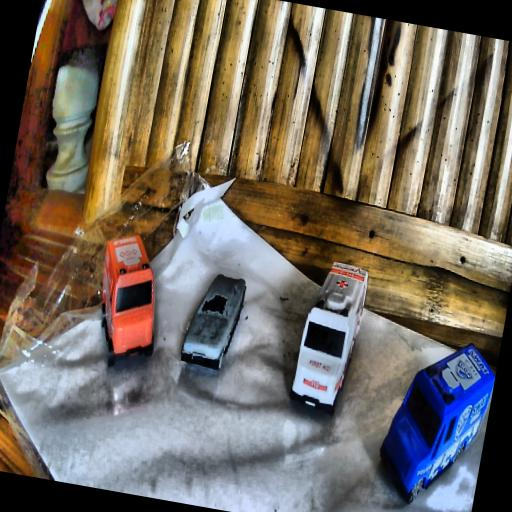ambulance: (370, 328, 500, 512), (286, 256, 371, 417), (86, 232, 172, 374)
normal_car: (179, 269, 249, 374)
